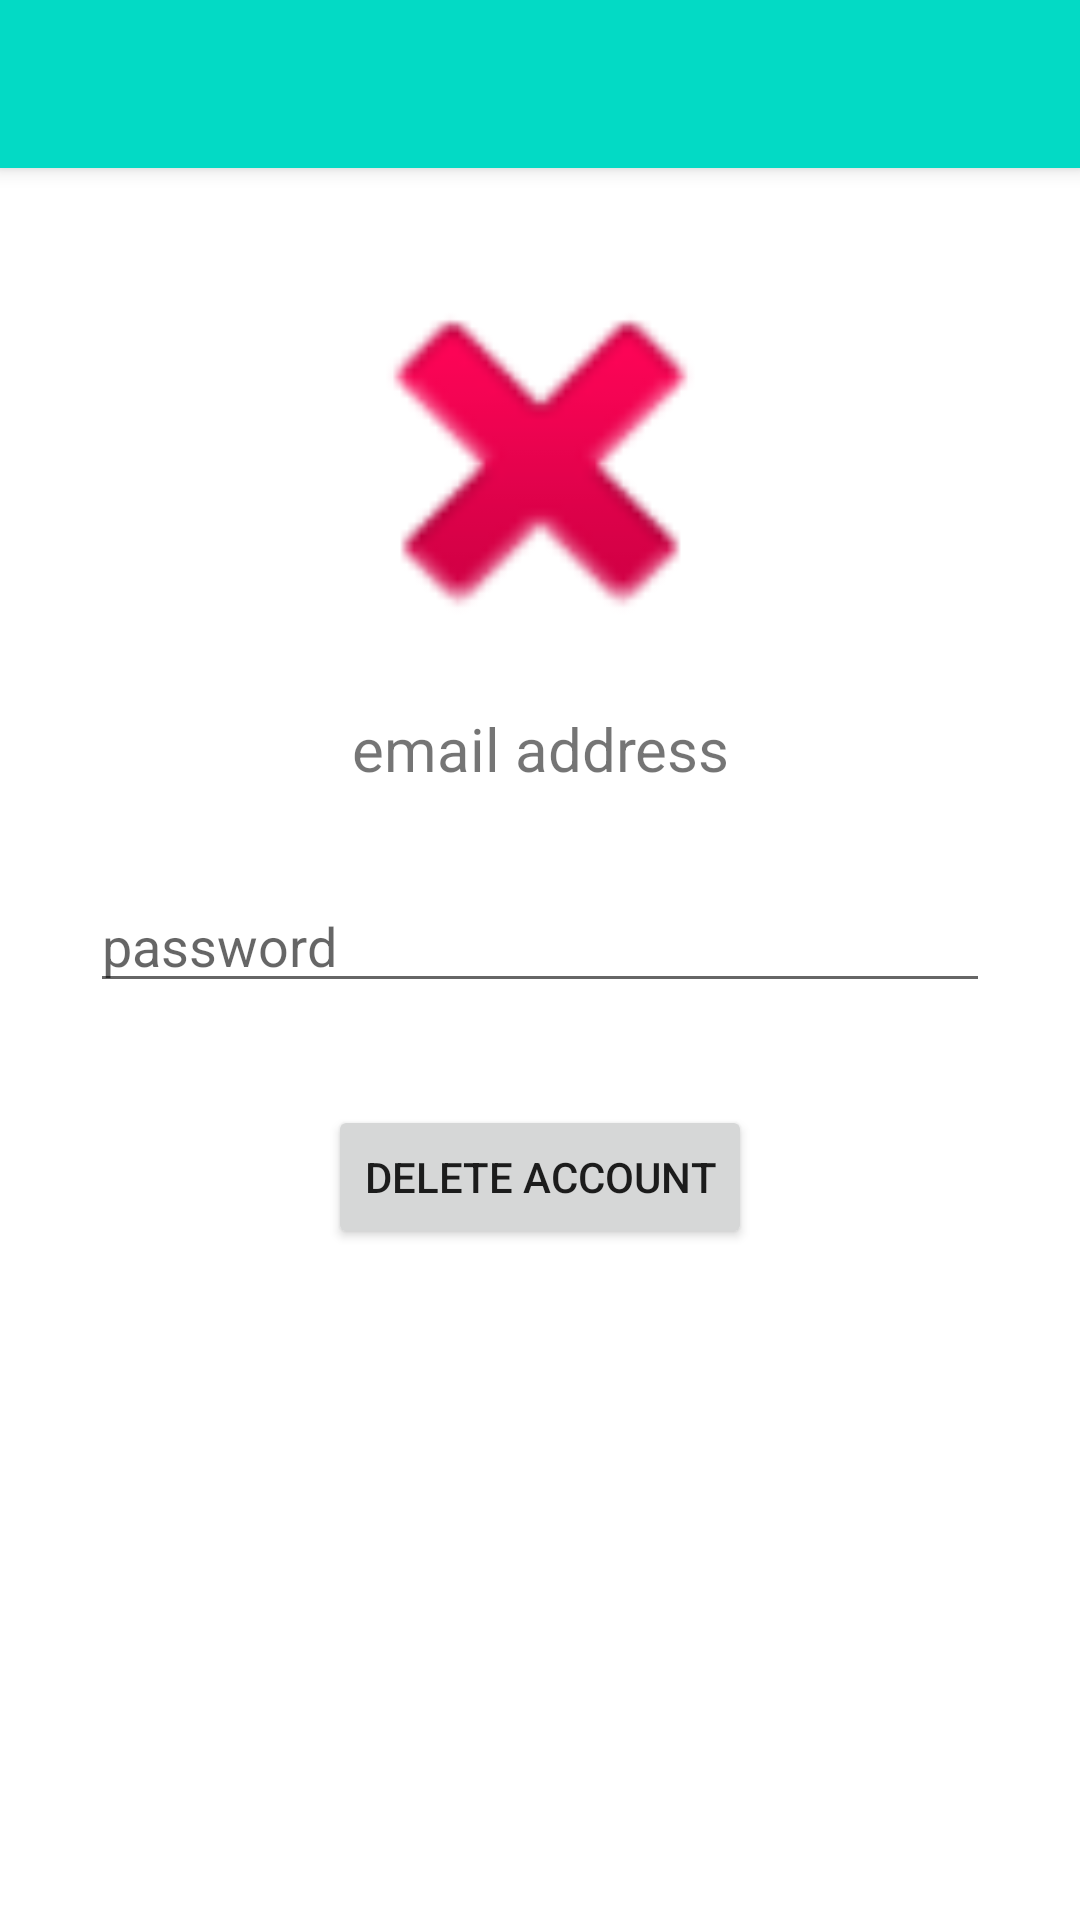

Icon click points for this 1080×1920 phone screenshot, format (x,y):
delete: (540,462)
